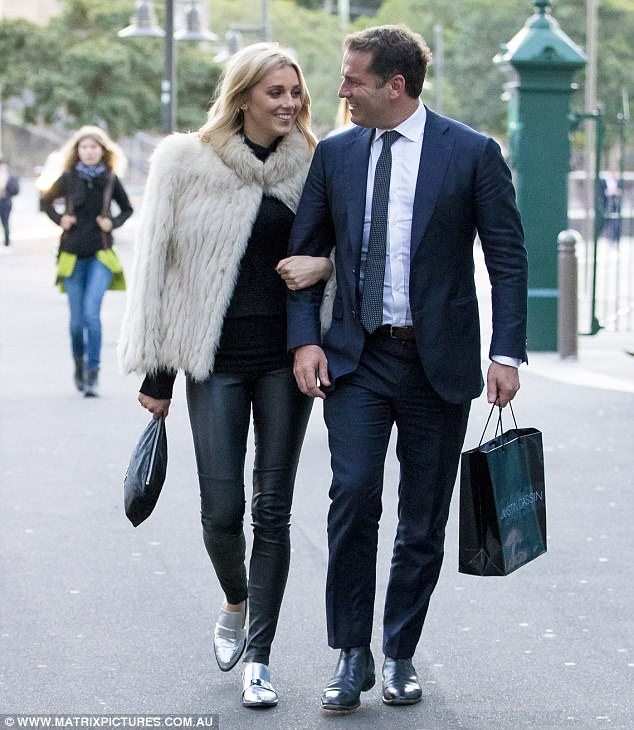Person: (321, 22, 528, 711), (131, 43, 322, 706), (33, 126, 133, 398)
